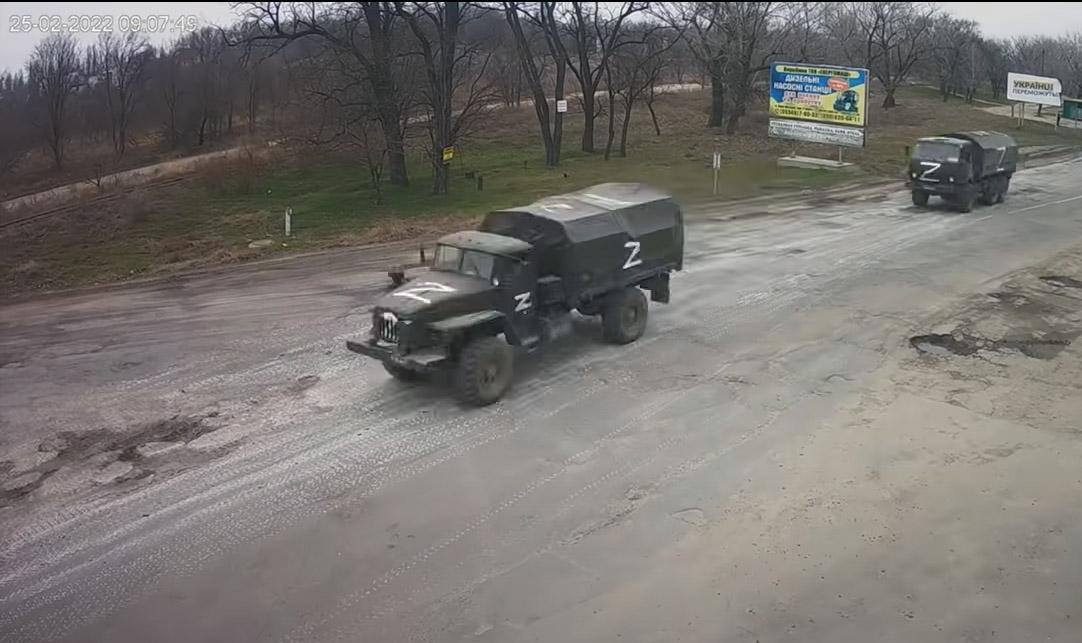truck: (330, 142, 690, 413), (901, 123, 1020, 214)
